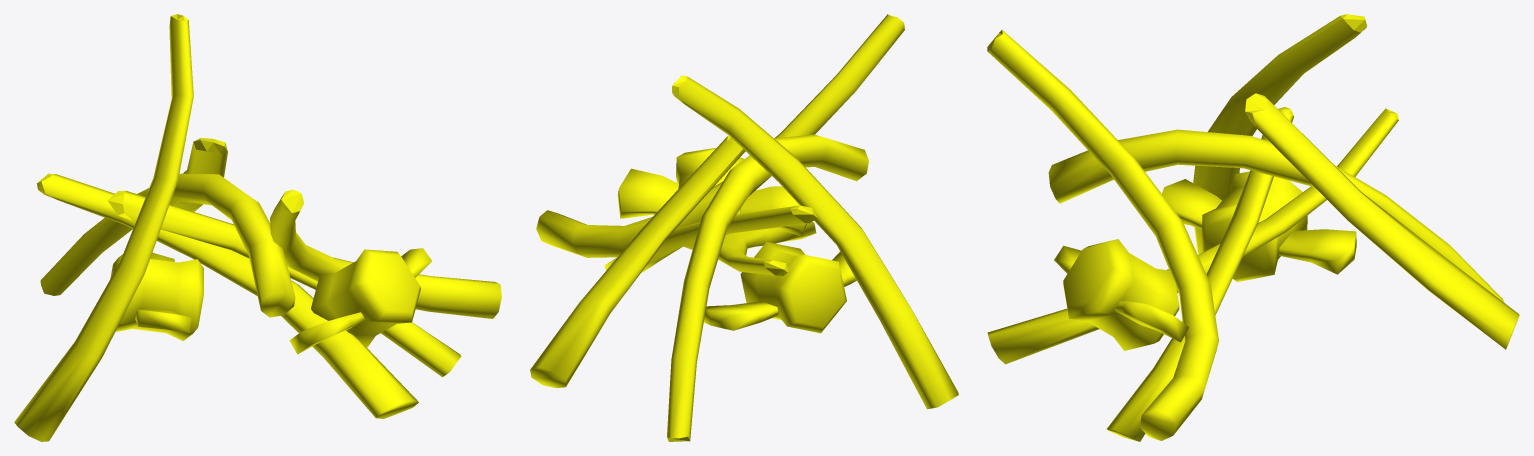
The model's file is bone_whale_lump01.glb.
3 views of the same model, side by side, from view 1: azimuth 30°, elevation 25°; view 2: azimuth 150°, elevation 25°; view 3: azimuth 270°, elevation 25° (orthographic). The views are drawn at different scales.
Visible parts, largest first — view 1: bone_whale_lump01; view 2: bone_whale_lump01; view 3: bone_whale_lump01.
Boxes of the visible parts, bbox=[...] form: bone_whale_lump01: bbox=[14, 14, 501, 441]; bone_whale_lump01: bbox=[530, 14, 958, 441]; bone_whale_lump01: bbox=[987, 14, 1519, 441].
Size of the model in its own units: 13.41 by 9.3 by 12.85.
Materials: 1 (1 with a texture image).
